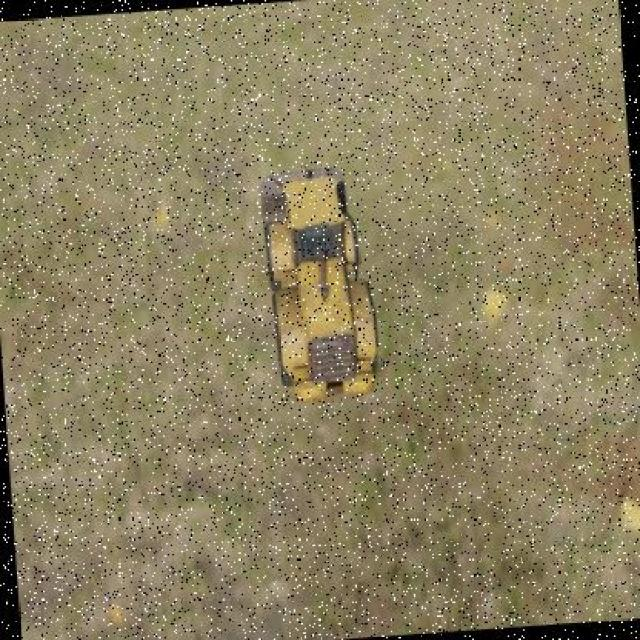buldozerpayloadergrader: (254, 159, 386, 406)
